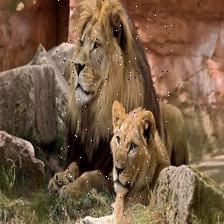Lion: (55, 0, 172, 224)
